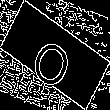O_NE: (29, 22, 81, 88)
